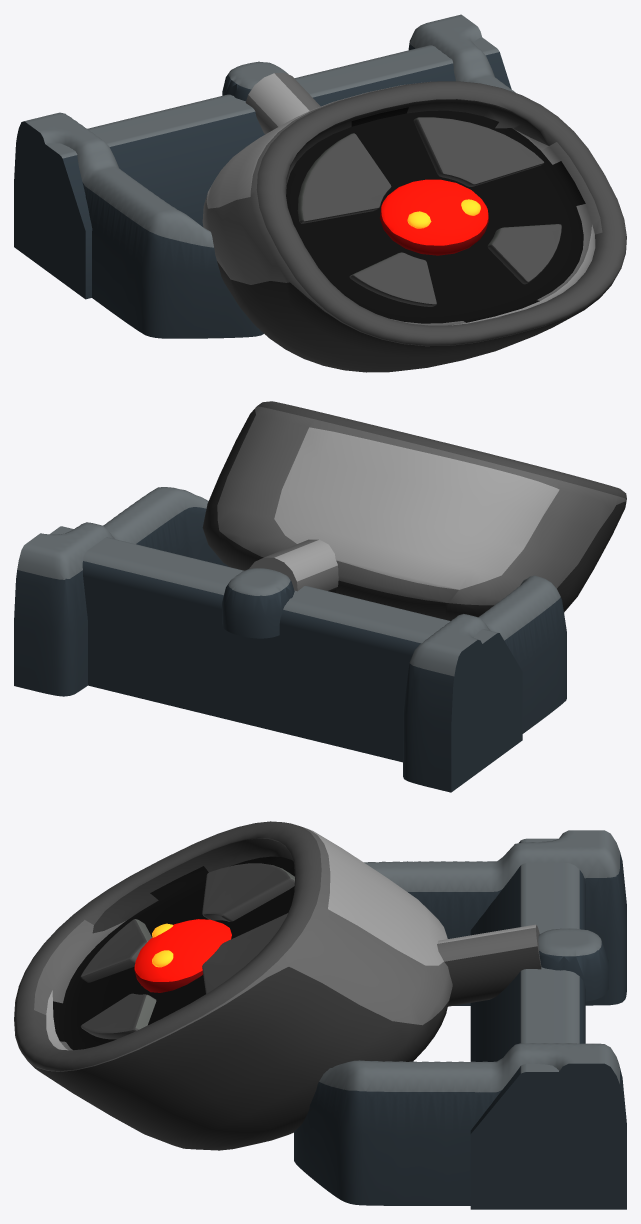
File: hanging_pod.glb
3 views of the same model, one above another, from view 1: azimuth 30°, elevation 25°; view 2: azimuth 150°, elevation 25°; view 3: azimuth 270°, elevation 25° (orthographic). The views are drawn at different scales.
Visible parts, largest first — view 1: hanging_pod; view 2: hanging_pod; view 3: hanging_pod.
Part boxes in pixels (x1,y1,x2,y2): hanging_pod: (14,14,626,372); hanging_pod: (14,401,626,792); hanging_pod: (14,821,626,1209).
Bounding box in the file's own units: 24 × 11.54 × 26.65.
